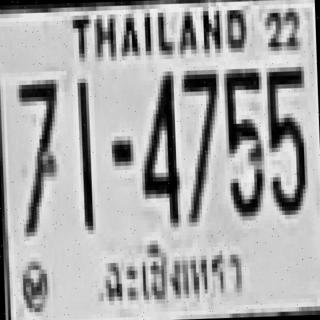N01: (76, 78, 92, 226)
N04: (136, 69, 178, 222)
N05: (263, 63, 306, 211), (221, 64, 263, 212)
N07: (17, 75, 60, 232), (181, 68, 221, 220), (17, 75, 58, 182), (181, 67, 219, 174)
P07: (96, 234, 251, 313)
